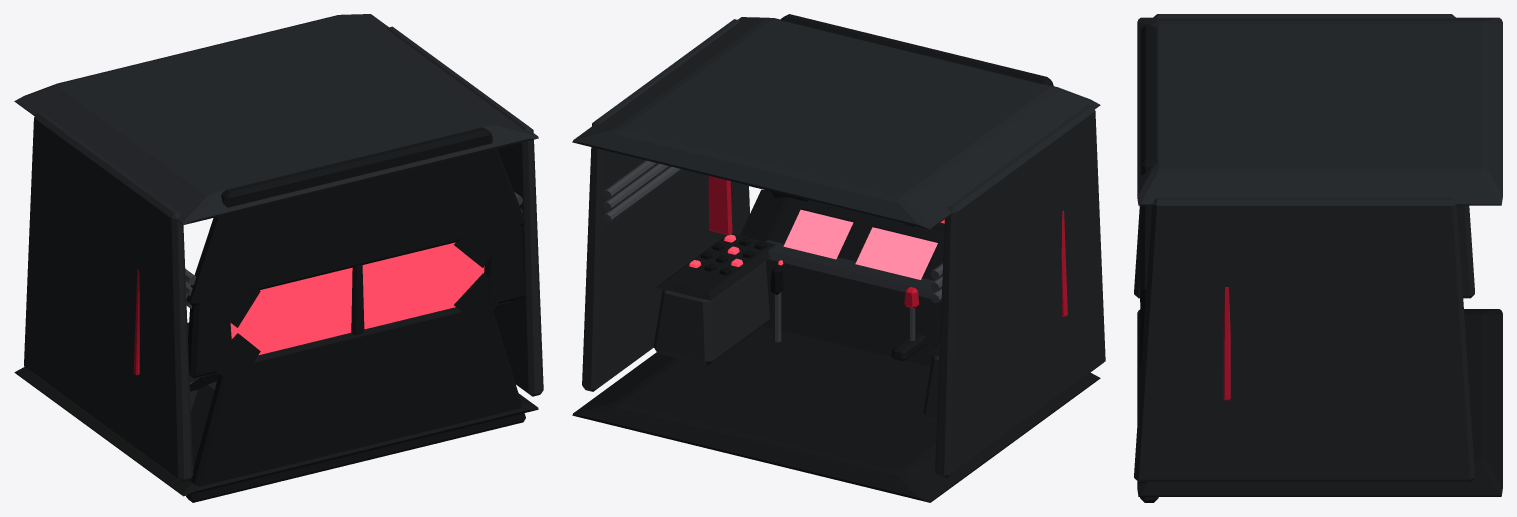
Rendered from cockpit_C.glb.
The picture shows the model from 3 angles, left to right: view 1: azimuth 30°, elevation 25°; view 2: azimuth 150°, elevation 25°; view 3: azimuth 270°, elevation 25°; orthographic projection. The views are drawn at different scales.
Parts seen in each view (by area): view 1: cockpit_mesh; view 2: cockpit_mesh, SCREEN_C, SCREEN_L; view 3: cockpit_mesh.
Boxes of the visible parts, x1=… form: cockpit_mesh: x1=14, y1=14, x2=543, y2=502; cockpit_mesh: x1=572, y1=14, x2=1105, y2=502; SCREEN_C: x1=855, y1=227, x2=937, y2=279; SCREEN_L: x1=783, y1=209, x2=853, y2=259; cockpit_mesh: x1=1134, y1=14, x2=1502, y2=502.
Bounding box in the file's own units: 2.96 × 2.3 × 2.38.
